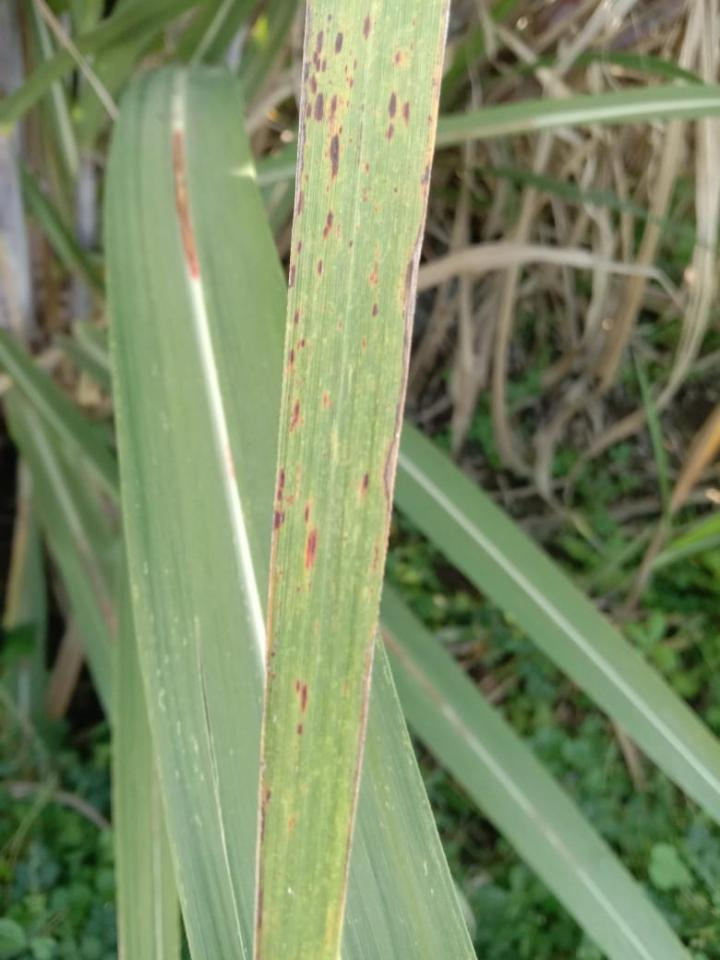RedRot: (171, 127, 201, 280)
Rust: (381, 164, 430, 558), (293, 0, 314, 240), (304, 525, 319, 570), (329, 133, 340, 180), (294, 679, 308, 714), (322, 207, 336, 241), (368, 244, 379, 287), (313, 29, 323, 73), (385, 90, 398, 120), (358, 471, 369, 506), (276, 468, 286, 502), (313, 93, 324, 122), (290, 398, 299, 432), (273, 509, 285, 531), (334, 31, 344, 56), (288, 262, 297, 289), (401, 101, 410, 127), (363, 14, 371, 42), (322, 390, 332, 412), (303, 501, 312, 524), (384, 122, 394, 141), (287, 349, 295, 372), (371, 301, 381, 319), (310, 74, 317, 95), (293, 308, 301, 326), (317, 257, 323, 278), (330, 95, 337, 112), (395, 51, 402, 66), (306, 103, 312, 120), (361, 337, 366, 357), (295, 240, 302, 254), (336, 220, 341, 239), (297, 339, 306, 349), (295, 724, 303, 735), (322, 59, 327, 73), (364, 163, 371, 173), (266, 789, 271, 802), (327, 13, 333, 23), (349, 79, 354, 90), (353, 58, 357, 71), (343, 65, 348, 74), (304, 174, 309, 183), (338, 125, 343, 133), (326, 27, 331, 34), (349, 240, 353, 248), (393, 187, 398, 193)
